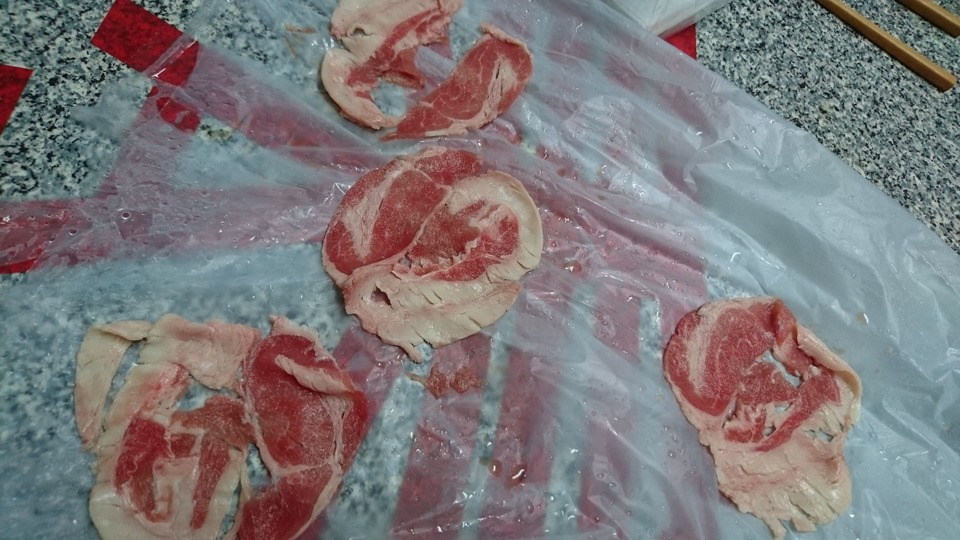restructured meat: (65, 317, 374, 540), (332, 142, 546, 377), (662, 294, 868, 535), (319, 1, 540, 141)
